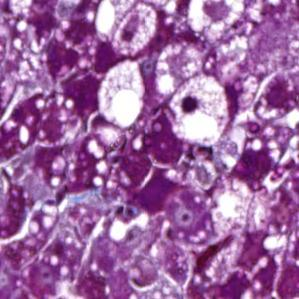ballooning: (164, 74, 235, 149), (95, 3, 160, 58), (97, 58, 145, 127), (186, 1, 244, 43)
